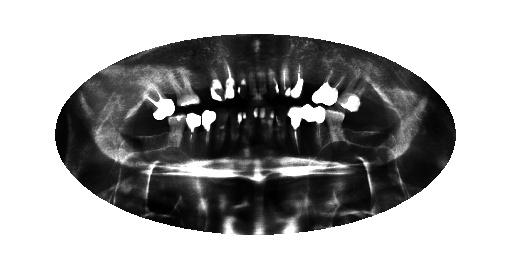i10decay: (227, 103, 246, 160)
i11decay: (212, 108, 230, 159)
i12healthy: (198, 103, 217, 165)
i13healthy: (184, 106, 203, 162)
i14healthy: (165, 108, 188, 159)
i4healthy: (323, 106, 348, 149)
i5healthy: (302, 101, 327, 150)
i6healthy: (287, 100, 304, 157)
i7chipped: (275, 101, 288, 152)
i8decay: (259, 103, 278, 154)
i9decay: (241, 103, 262, 159)
u10decay: (234, 62, 248, 107)
u11healthy: (219, 56, 236, 107)
u12healthy: (203, 58, 225, 106)
u13loss: (189, 62, 213, 107)
u14healthy: (165, 63, 206, 119)
u15healthy: (139, 75, 176, 124)
u2healthy: (335, 66, 367, 118)
u3healthy: (310, 60, 345, 111)
u4loss: (297, 60, 328, 106)
u5healthy: (288, 55, 306, 103)
u6healthy: (278, 58, 292, 100)
u7healthy: (266, 61, 282, 104)
u8decay: (255, 62, 267, 106)
u9decay: (246, 67, 258, 105)
